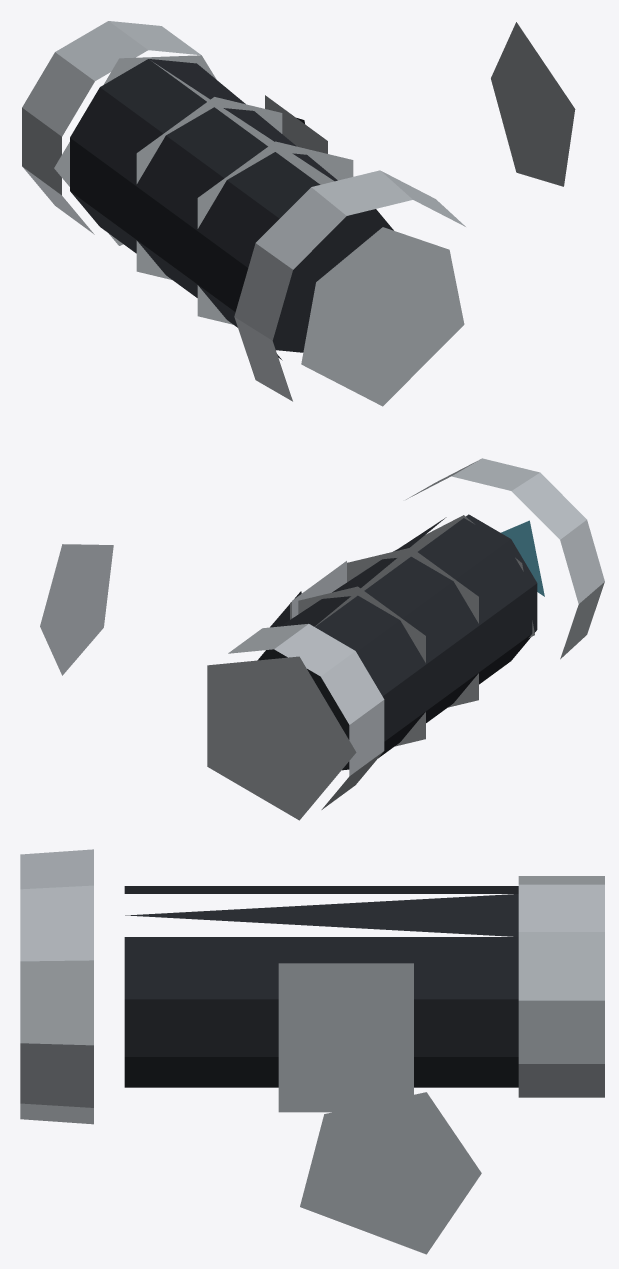
Rendered from saber-guard.lod.glb.
The picture shows the model from 3 angles, top to bottom: view 1: azimuth 30°, elevation 25°; view 2: azimuth 150°, elevation 25°; view 3: azimuth 270°, elevation 25°; orthographic projection. The views are drawn at different scales.
Parts seen in each view (by area): view 1: m; view 2: m; view 3: m.
Boxes of the visible parts, bbox=[...] form: m: bbox=[22, 21, 575, 406]; m: bbox=[40, 458, 604, 820]; m: bbox=[20, 849, 604, 1254].
Size of the model in its own units: 0.0554 by 0.0252 by 0.0564.
